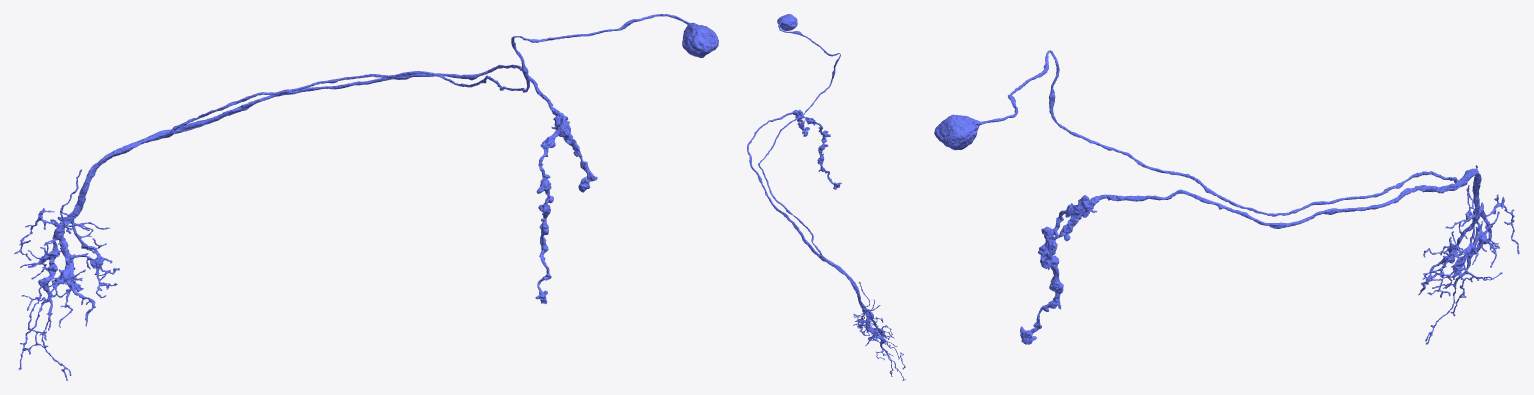
Rendered from VFB_jrmc0nfv.glb.
3 renders of one model, left to right at view 1: azimuth 30°, elevation 25°; view 2: azimuth 150°, elevation 25°; view 3: azimuth 270°, elevation 25°, orthographic. The views are drawn at different scales.
Visible parts, largest first — view 1: VFB_jrmc0nfv; view 2: VFB_jrmc0nfv; view 3: VFB_jrmc0nfv.
Boxes of the visible parts, left/top/right/bottom form: VFB_jrmc0nfv: left=14, top=14, right=718, bottom=380; VFB_jrmc0nfv: left=747, top=14, right=905, bottom=380; VFB_jrmc0nfv: left=934, top=50, right=1519, bottom=344.
Size of the model in its own units: 0.0397 by 0.0335 by 0.0401.
